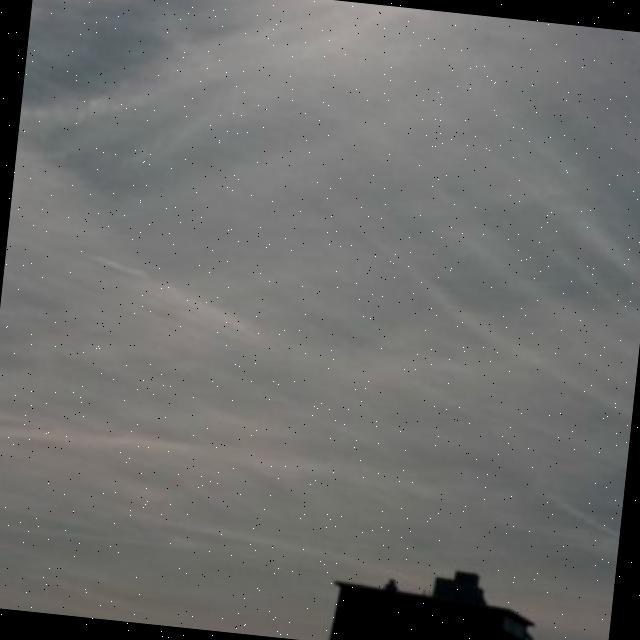Ct: (1, 27, 640, 522)
